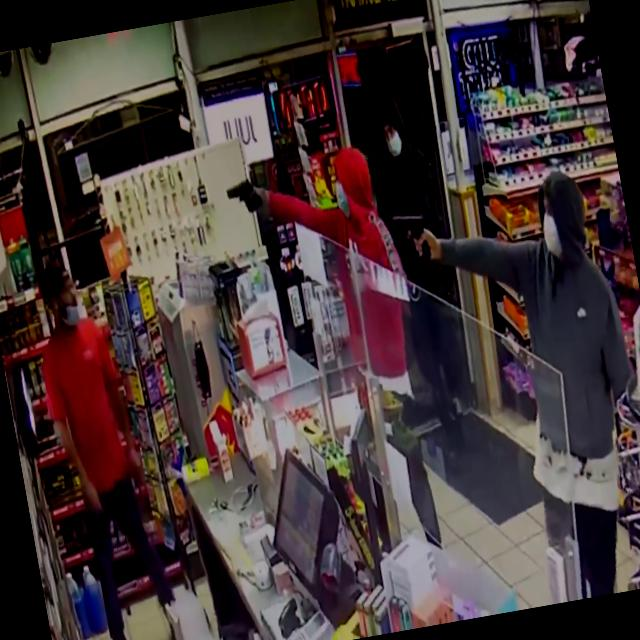handgun: (386, 200, 443, 264), (220, 164, 266, 230)
